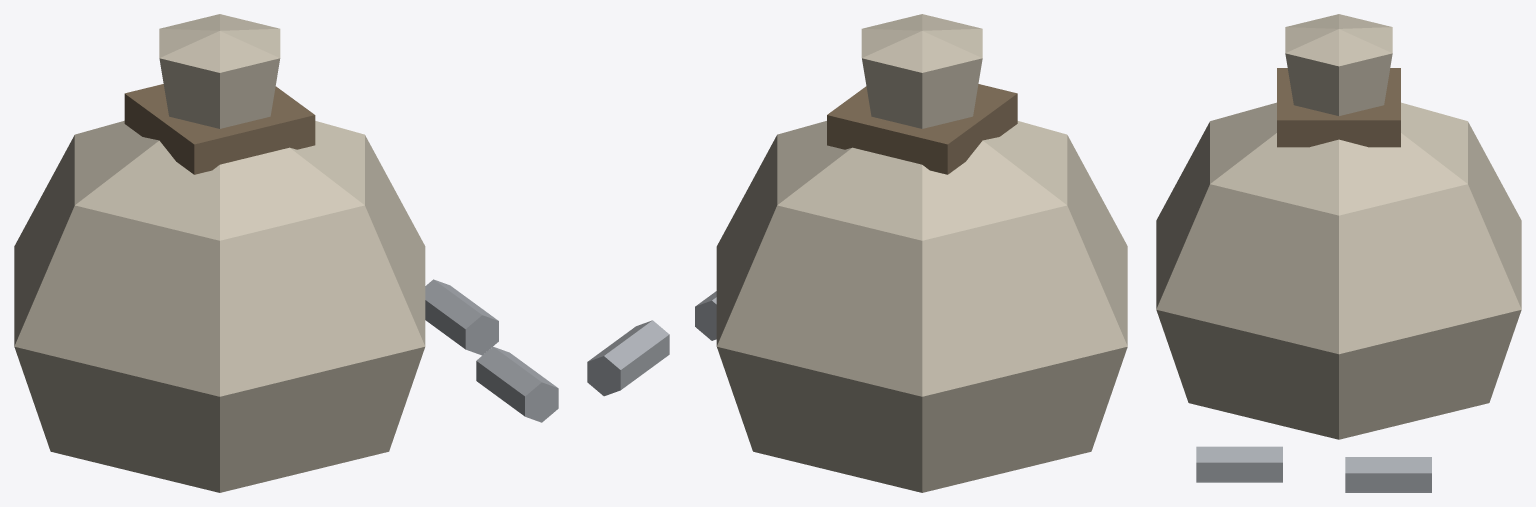
Rendered from prop-lead-weight-bag.fbx.
3 views of the same model, side by side, from view 1: azimuth 30°, elevation 25°; view 2: azimuth 150°, elevation 25°; view 3: azimuth 270°, elevation 25° (orthographic). The views are drawn at different scales.
Visible parts, largest first — view 1: prop-lead-weight-bag; view 2: prop-lead-weight-bag; view 3: prop-lead-weight-bag.
Boxes of the visible parts, <box> form: prop-lead-weight-bag: <box>14,14,558,492</box>; prop-lead-weight-bag: <box>587,14,1127,492</box>; prop-lead-weight-bag: <box>1156,14,1521,492</box>.
Size of the model in its own units: 20.19 by 15.5 by 14.72.
